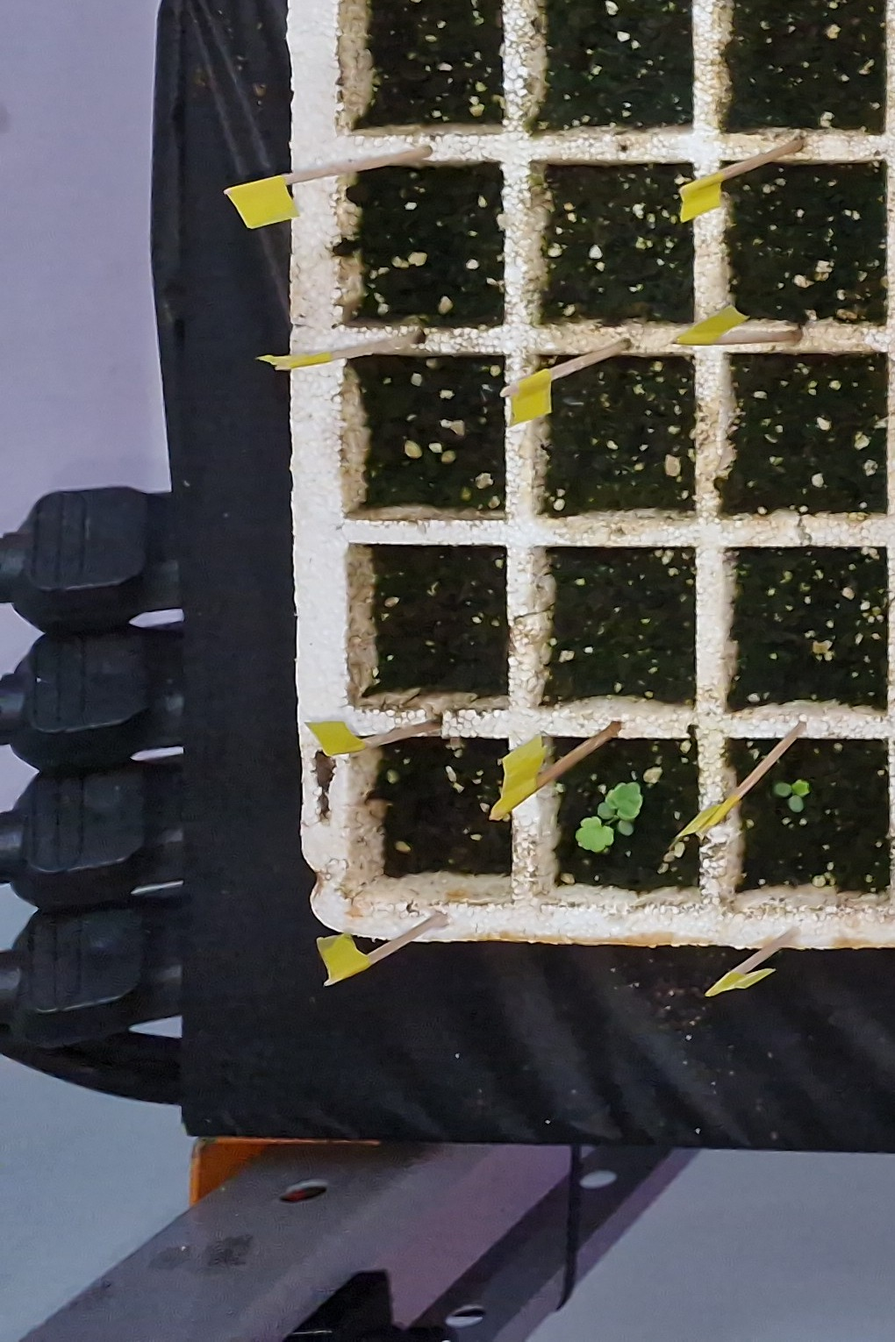Folha: (606, 782, 643, 820), (576, 817, 613, 852), (792, 779, 810, 797), (598, 803, 614, 819), (789, 796, 803, 813), (775, 783, 792, 796), (619, 820, 633, 835)
Germinacao: (575, 782, 643, 852), (776, 779, 809, 813)
